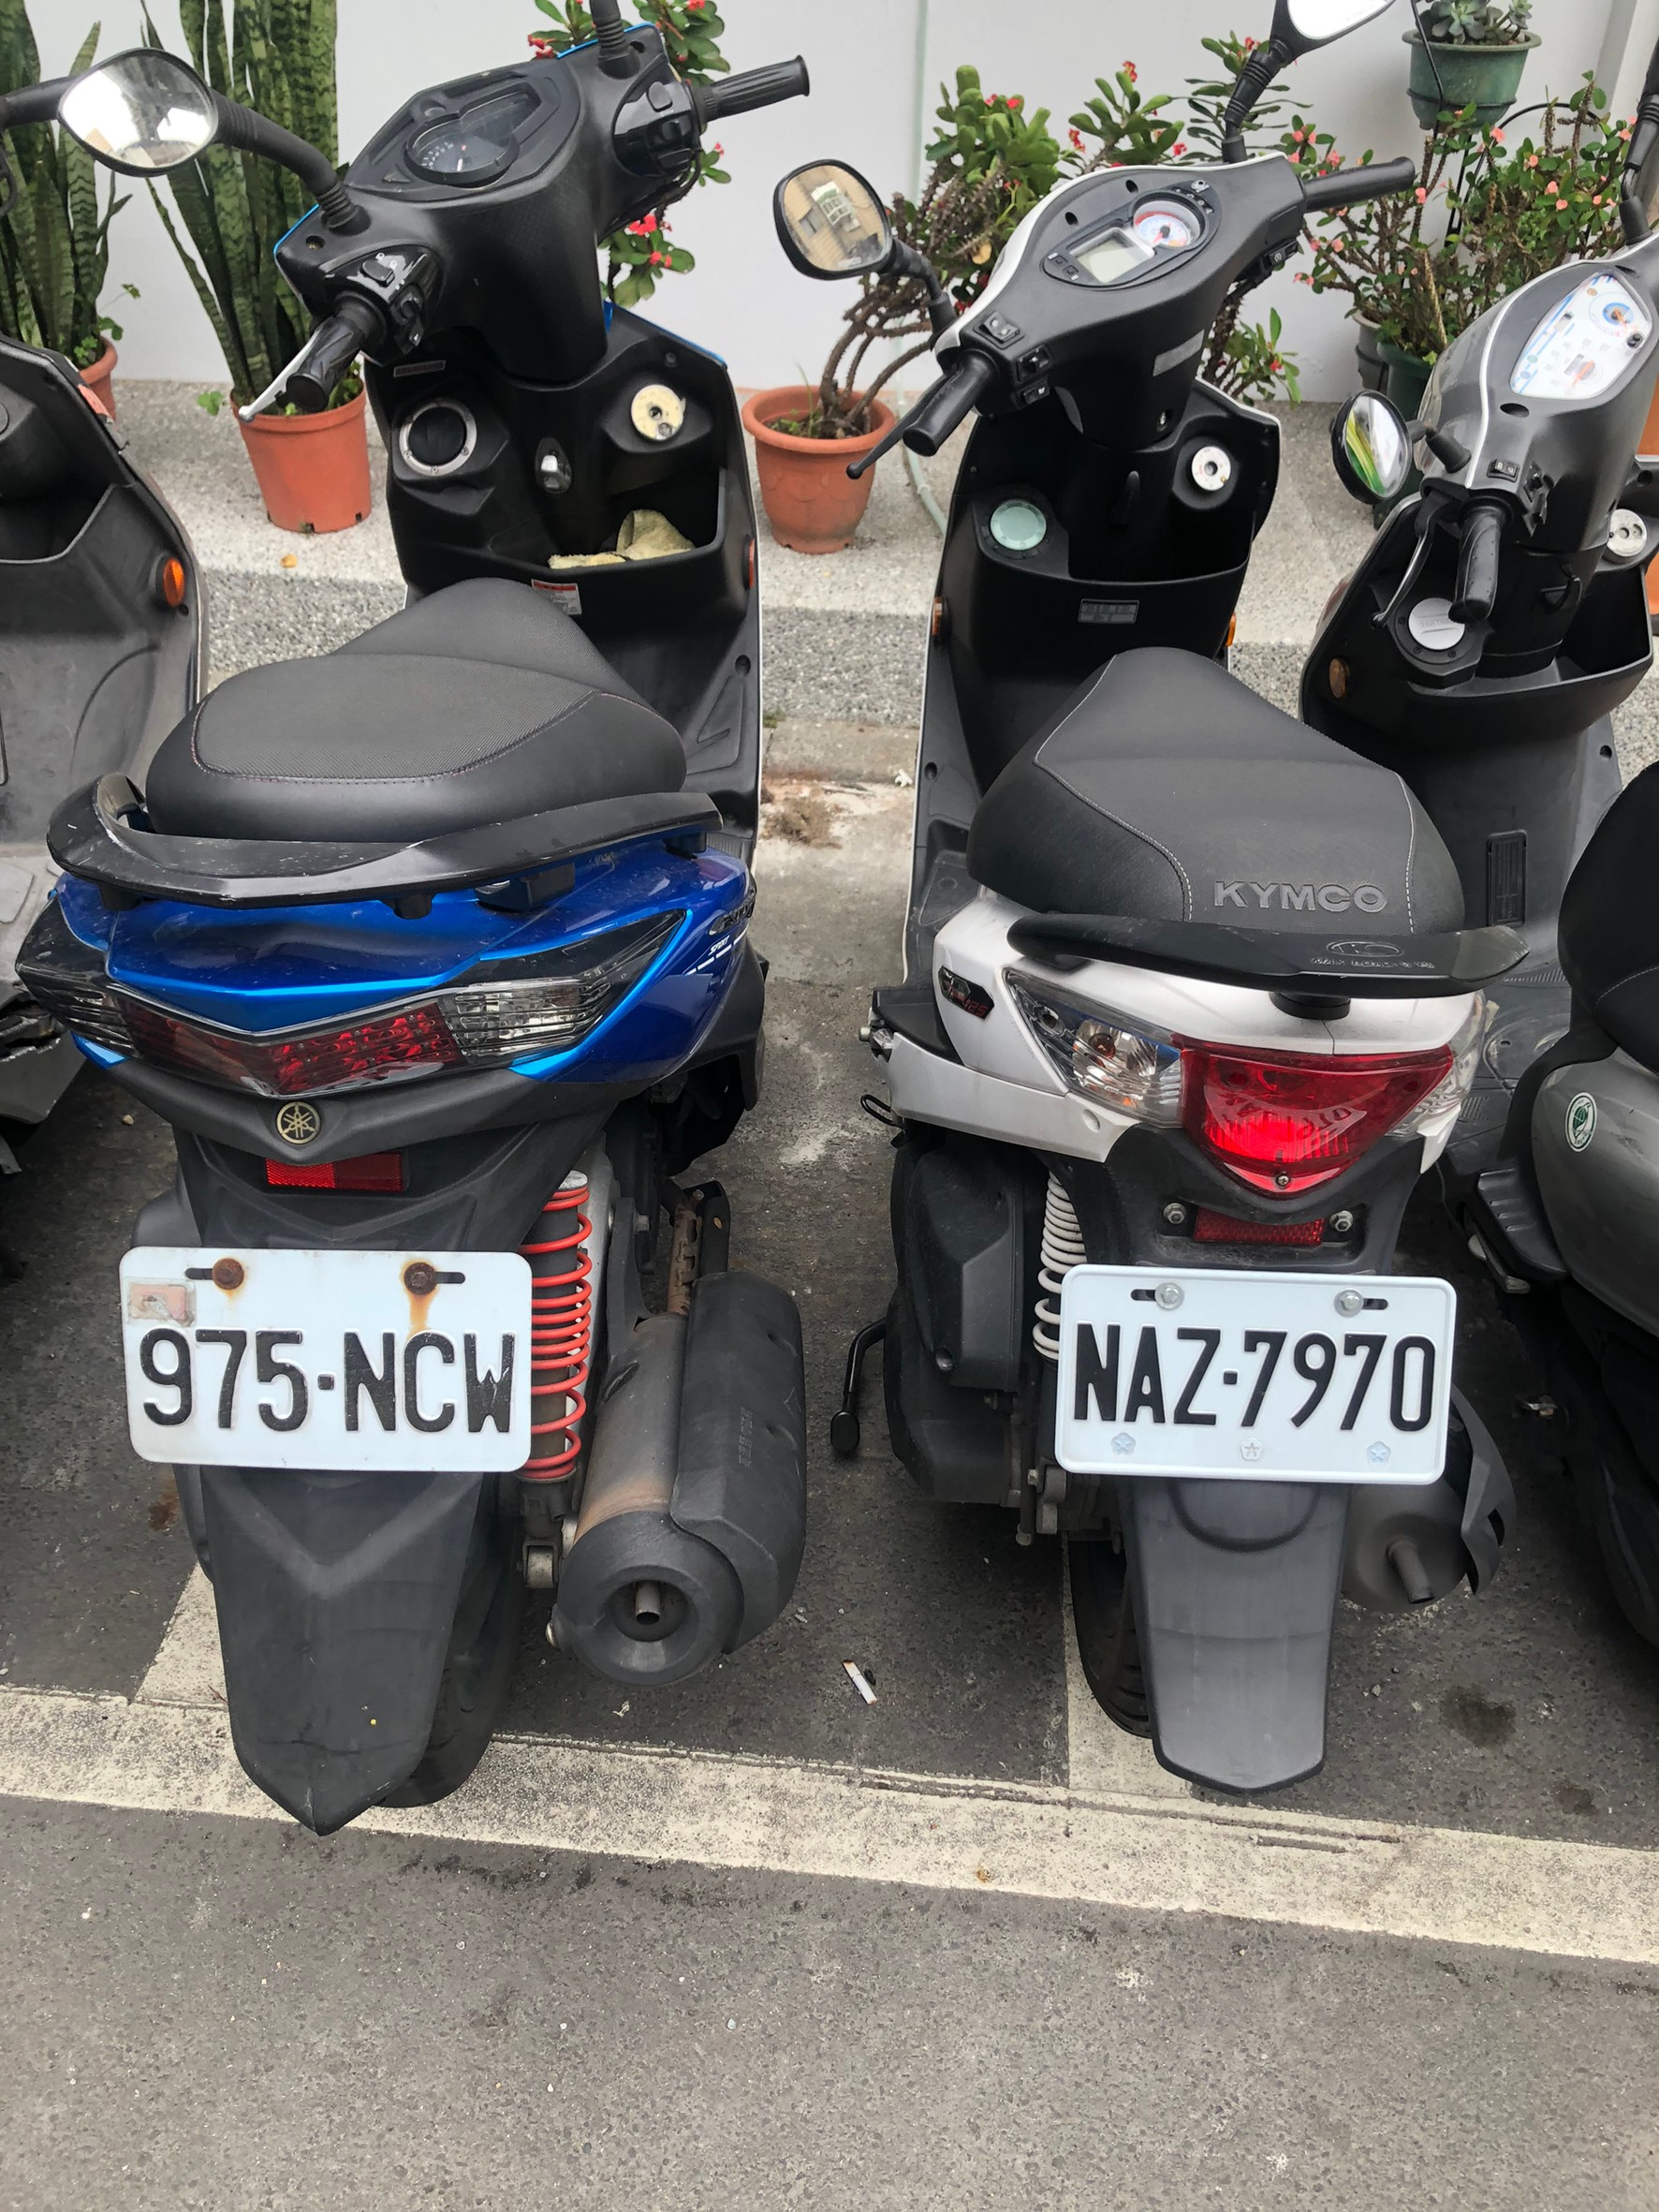LP: (119, 1242, 539, 1477), (1055, 1258, 1457, 1483)
